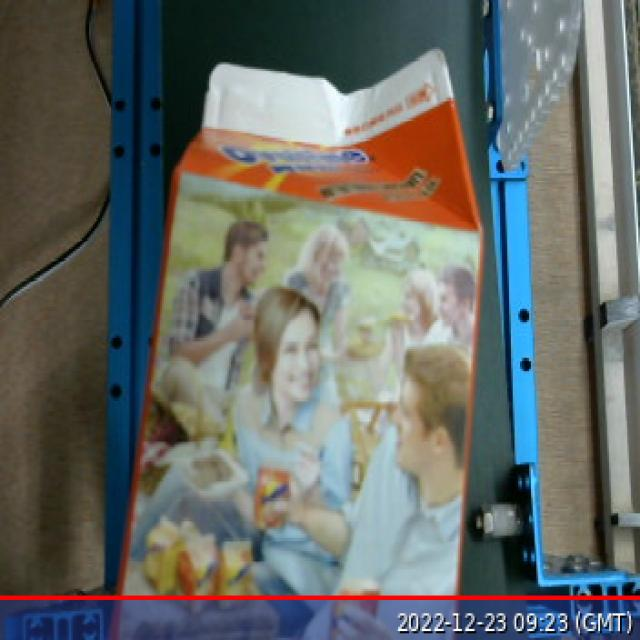non_white_jug: (116, 63, 491, 640)
